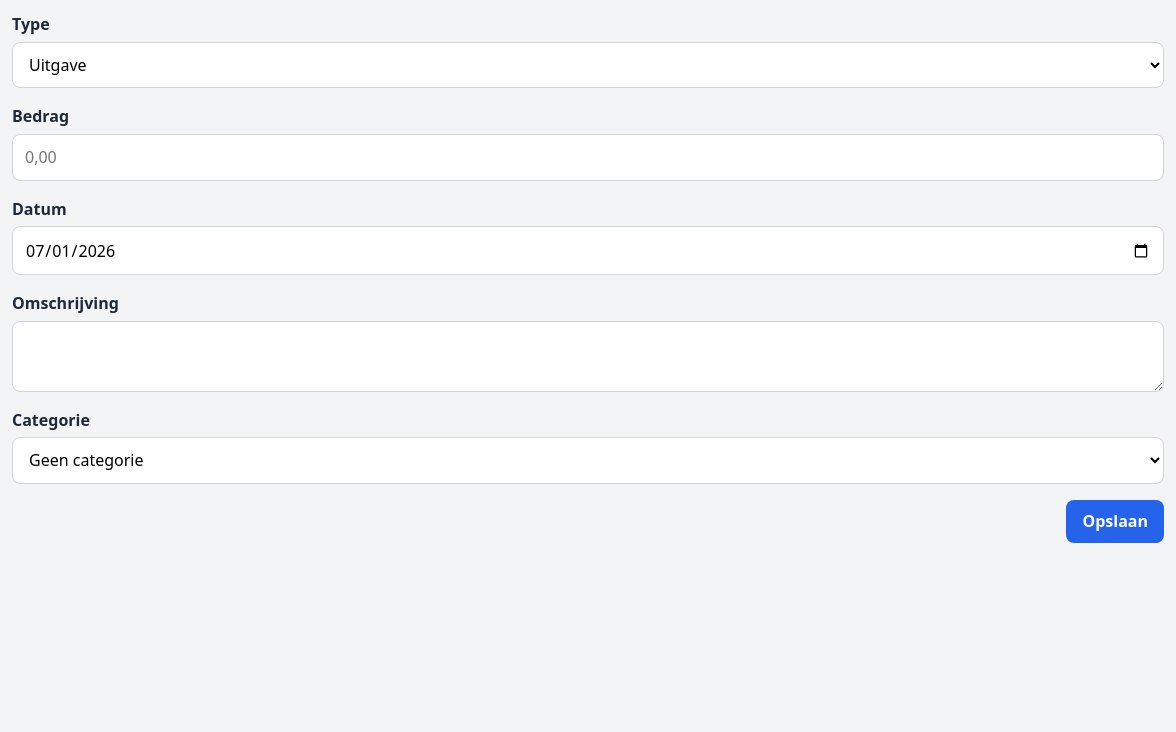
it: TransactionForm › shows validation error for invalid amount
The image size is (1176, 732).
Click the button "Opslaan".
click(1115, 522)  # box [1066,500,1164,543]
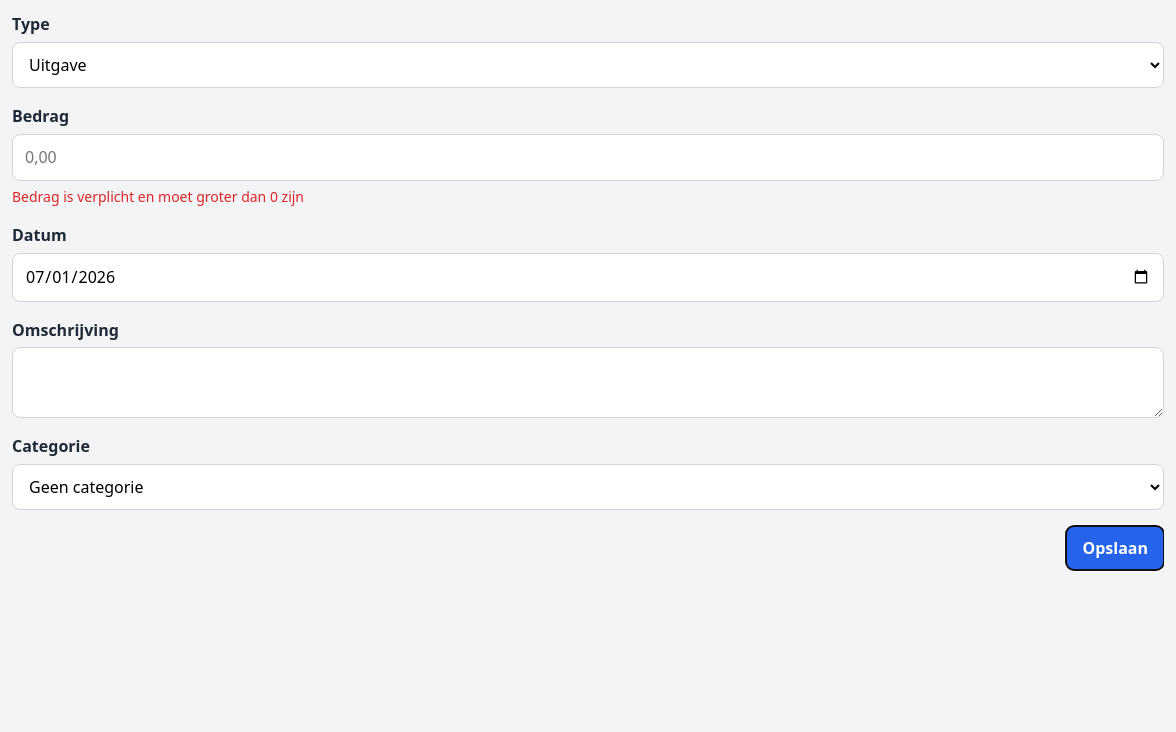
Expected: the text "Bedrag is verplicht en moet groter dan 0 zijn" is shown, [12,187,304,206]
